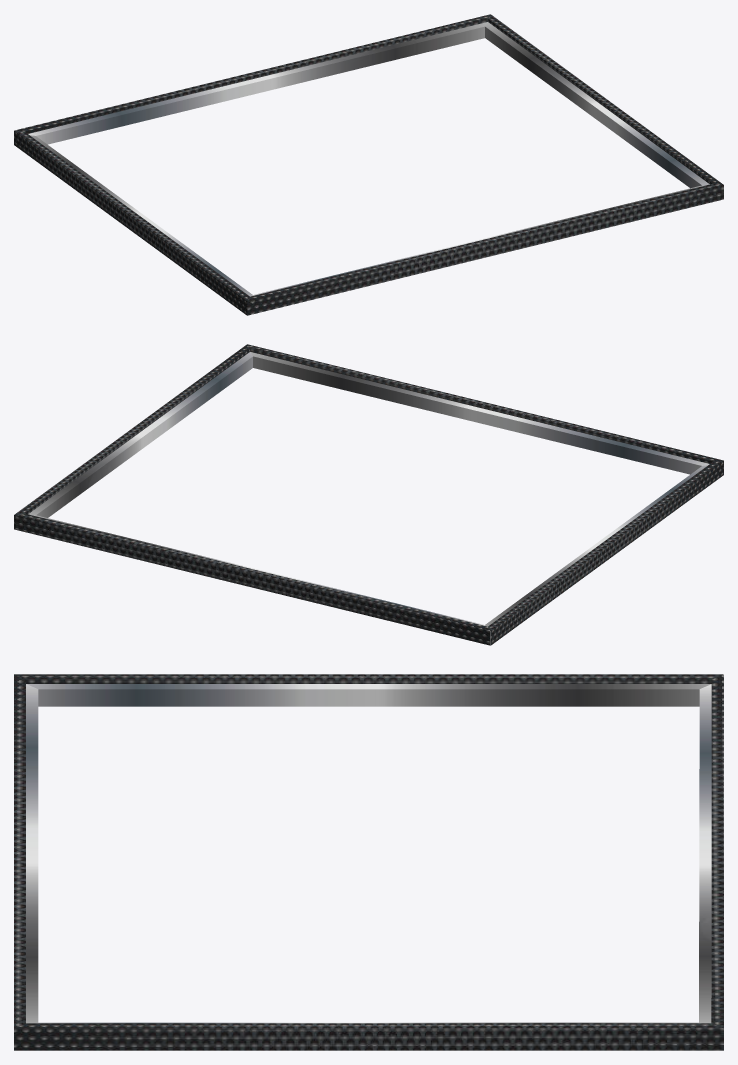
The model's file is Metal_Frame.fbx.
3 renders of one model, top to bottom at view 1: azimuth 30°, elevation 25°; view 2: azimuth 150°, elevation 25°; view 3: azimuth 270°, elevation 25°, orthographic. The views are drawn at different scales.
Parts seen in each view (by area): view 1: Expensive_metal_frame; view 2: Expensive_metal_frame; view 3: Expensive_metal_frame.
Part boxes in pixels (bbox=[...]): Expensive_metal_frame: bbox=[14, 14, 723, 315]; Expensive_metal_frame: bbox=[14, 344, 723, 645]; Expensive_metal_frame: bbox=[14, 674, 723, 1050].
Bounding box in the file's own units: 520 × 15.12 × 441.
1 material, 1 textured.
